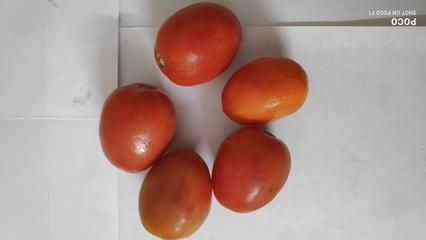tomato: (214, 124, 297, 217), (136, 150, 216, 238), (159, 2, 237, 86), (96, 82, 166, 168), (224, 55, 312, 120)
